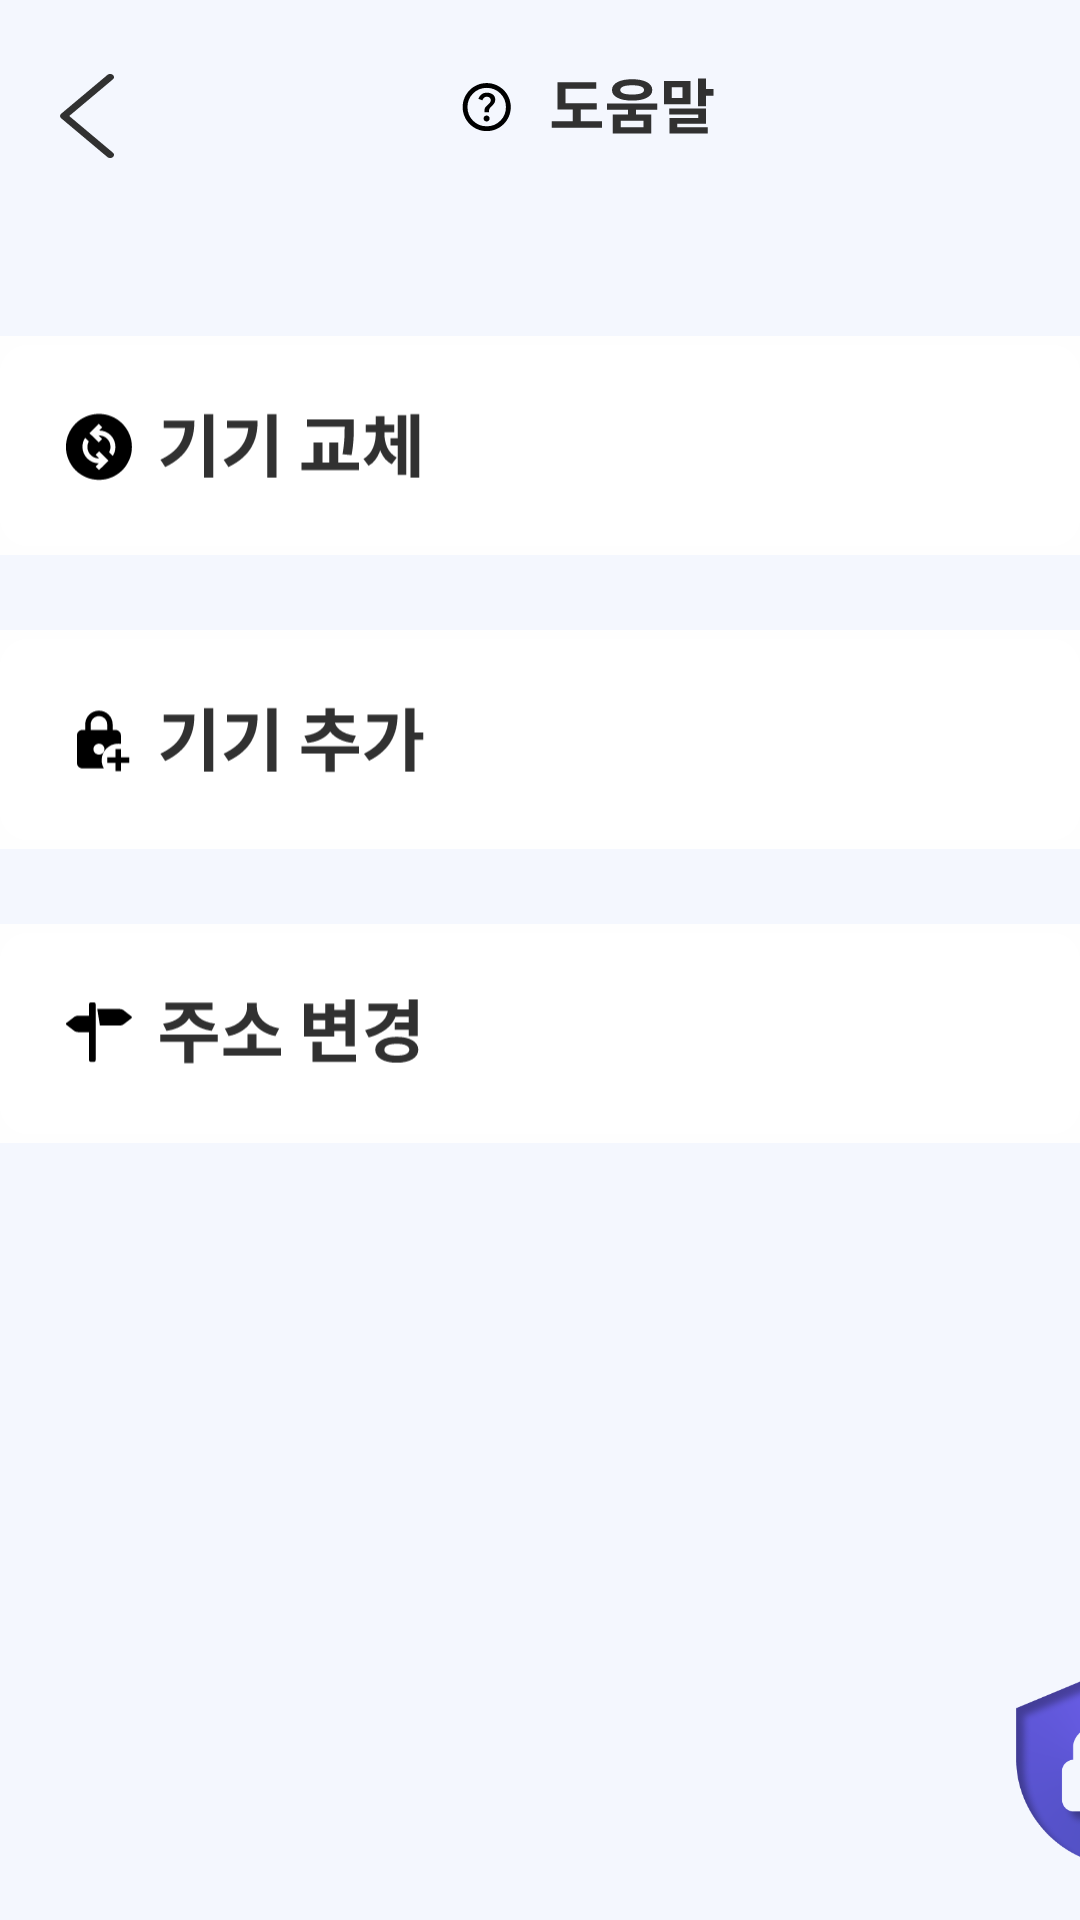

Where icons sit on this 1080 × 1920 app screen, as (x1=x1, y1=y1, x2=x2, y2=y2):
back: (x1=60, y1=74, x2=114, y2=158)
